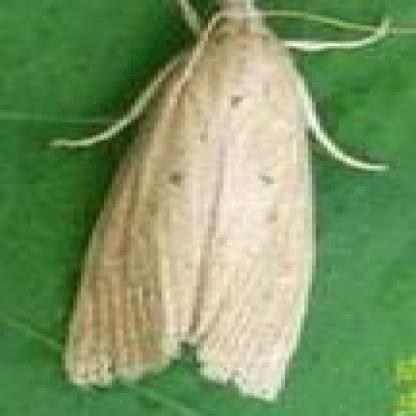stem-borer: (58, 0, 360, 405)
